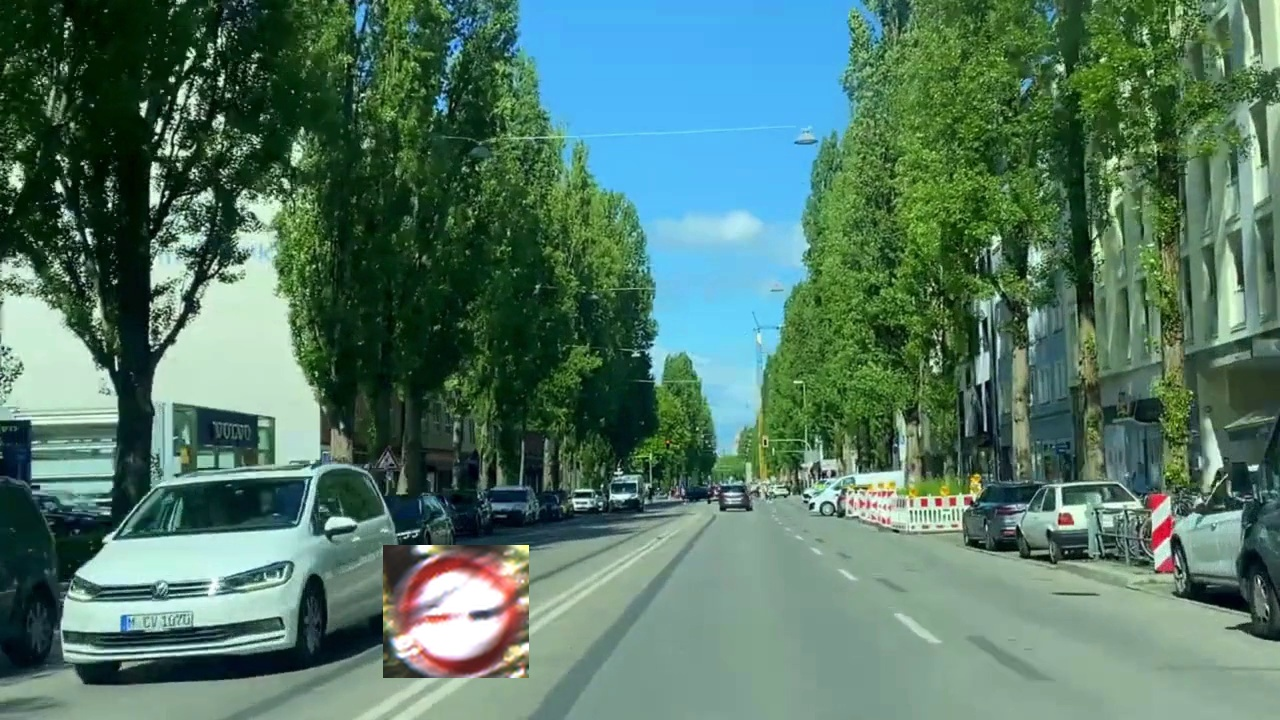No passing: (383, 545, 529, 678)
